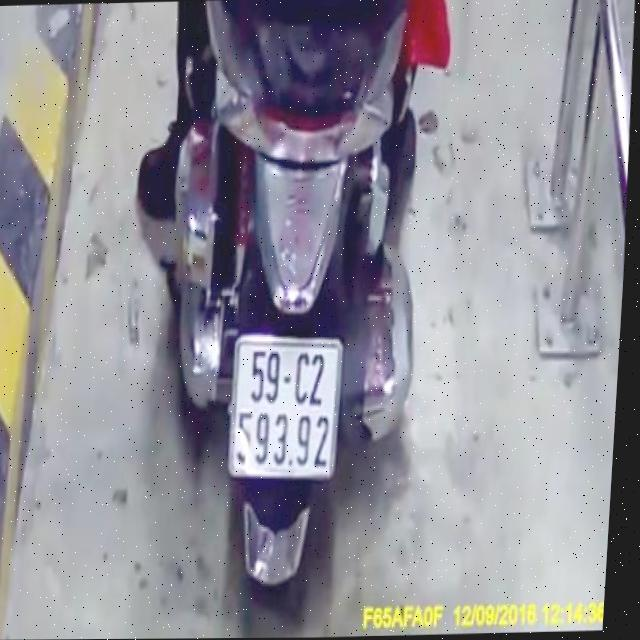motorcycle: (128, 0, 446, 633)
plate: (221, 317, 358, 493)
